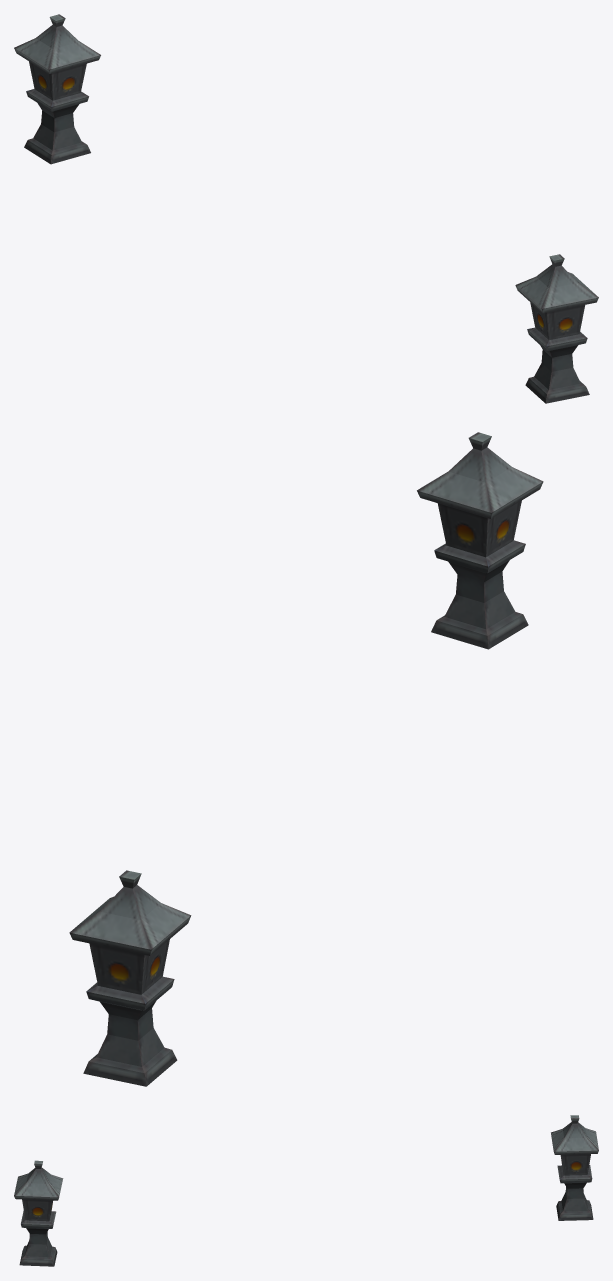
Rendered from Area_06_46.fbx.
The picture shows the model from 3 angles, top to bottom: view 1: azimuth 30°, elevation 25°; view 2: azimuth 150°, elevation 25°; view 3: azimuth 270°, elevation 25°; orthographic projection. The views are drawn at different scales.
Parts seen in each view (by area): view 1: Area_06_46; view 2: Area_06_46; view 3: Area_06_46.
Part boxes in pixels (x1,y1,x2,y2): Area_06_46: (14,14,598,403); Area_06_46: (69,432,543,1086); Area_06_46: (14,1115,598,1266).
Bounding box in the file's own units: 334 × 226 × 1246.
